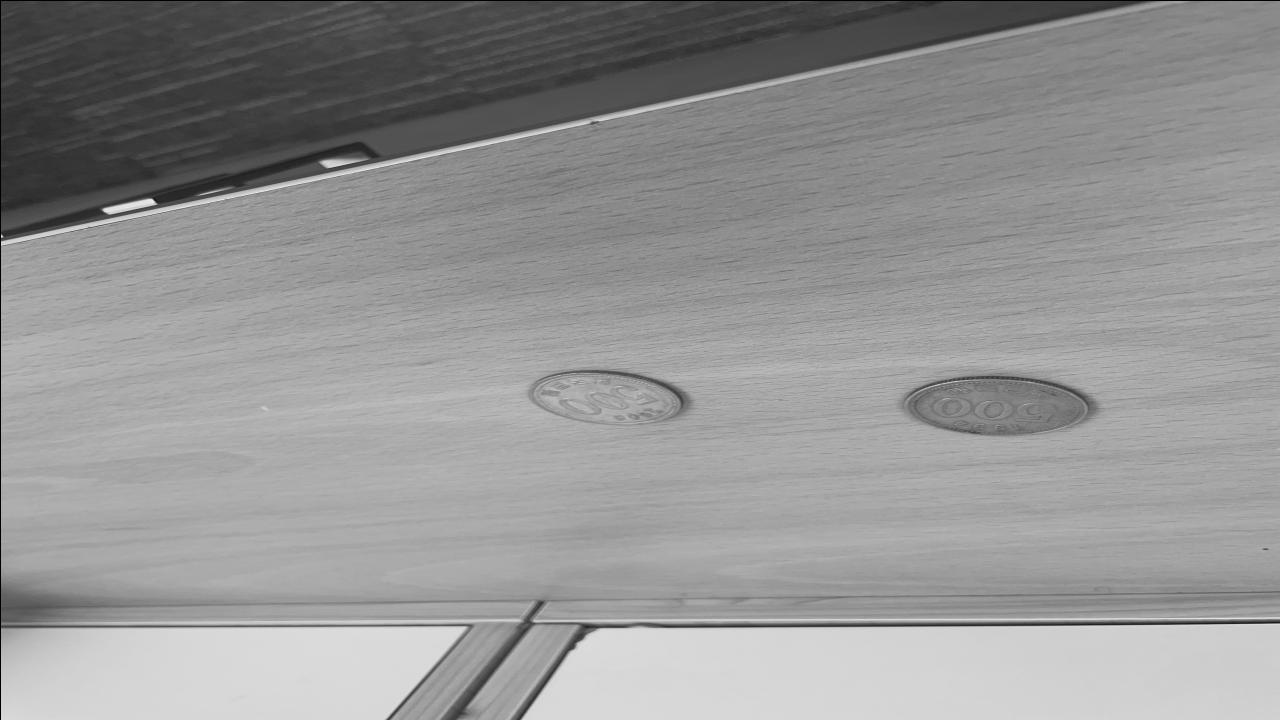coin: (898, 374, 1094, 438), (524, 370, 684, 427)
